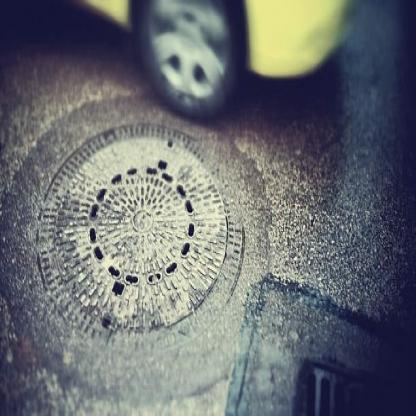manholes: (31, 109, 239, 347)
